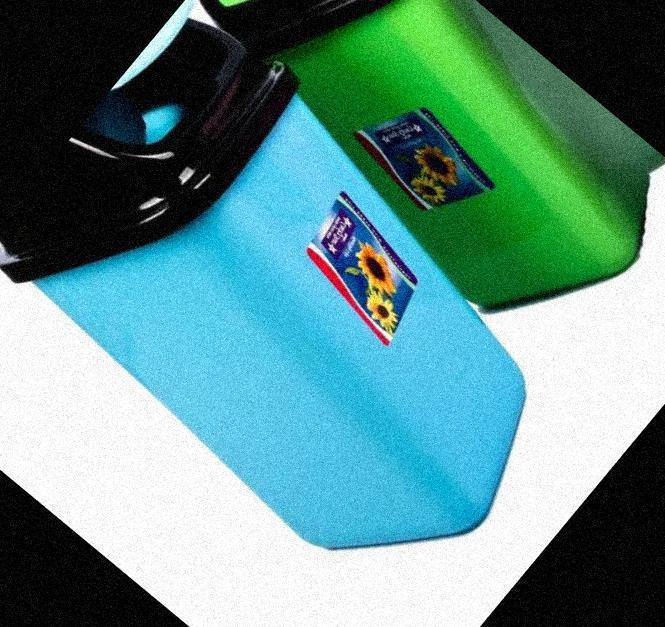Bote de Basura: (0, 33, 584, 613), (166, 0, 665, 359)
